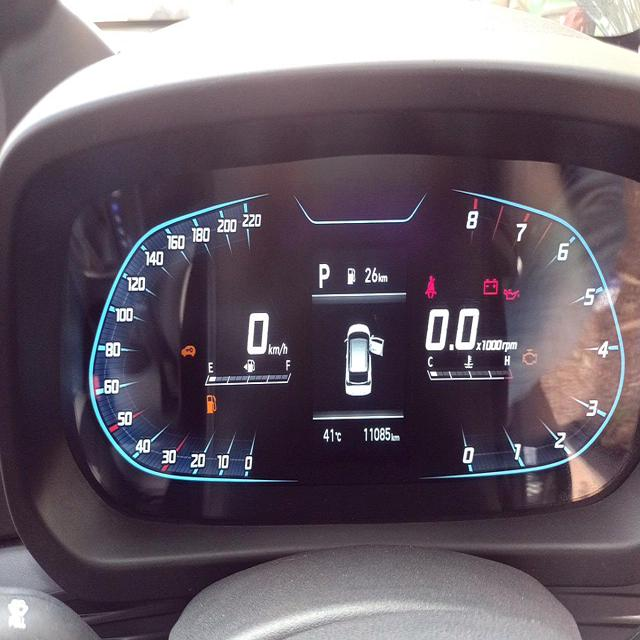odometer: (361, 424, 391, 445)
